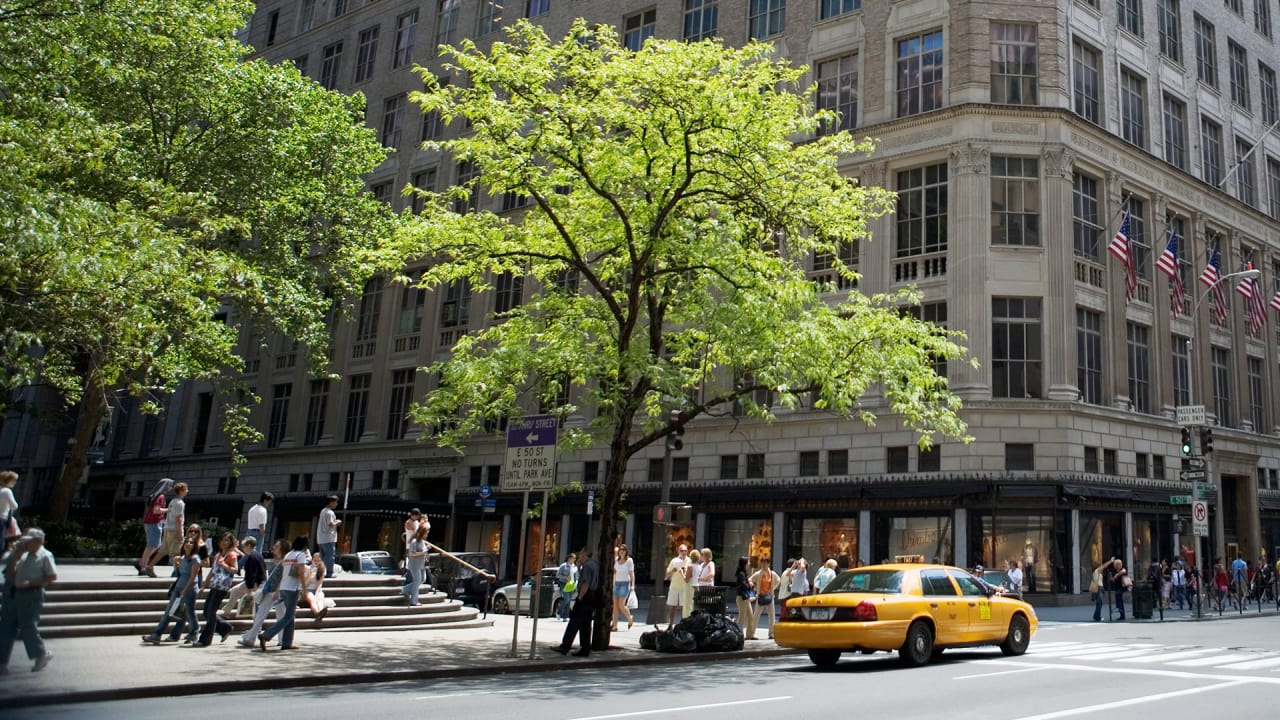tree: (390, 25, 961, 651), (2, 5, 372, 578)
